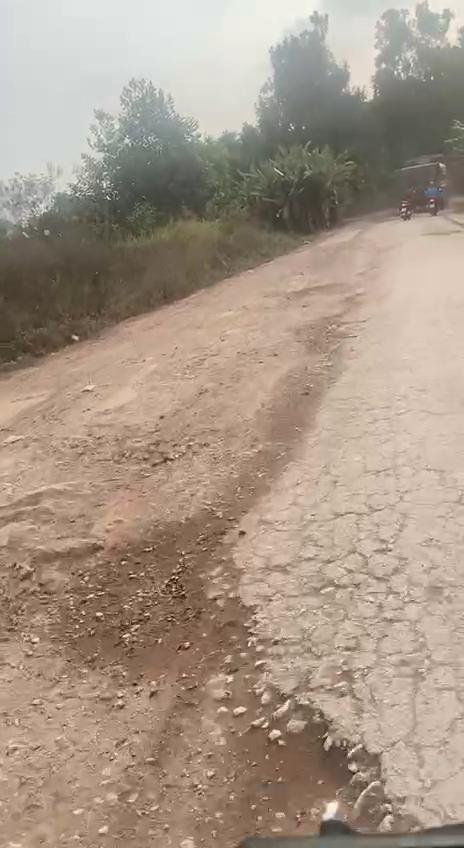pothole: (63, 561, 404, 848)
